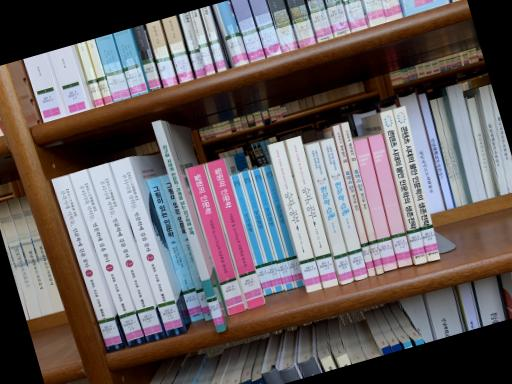book-spine: (152, 120, 227, 332), (69, 169, 147, 349), (110, 156, 187, 338), (89, 162, 166, 343), (51, 175, 125, 353), (185, 164, 247, 316), (205, 158, 265, 309), (146, 176, 204, 322), (267, 141, 322, 293), (286, 136, 339, 288), (160, 174, 212, 320), (393, 106, 441, 262), (381, 110, 427, 265), (306, 142, 354, 286), (340, 122, 384, 275), (332, 125, 376, 277), (321, 138, 368, 280), (353, 137, 398, 271), (368, 133, 413, 267), (240, 170, 285, 293), (230, 173, 274, 296), (251, 168, 295, 291), (261, 164, 305, 287)
